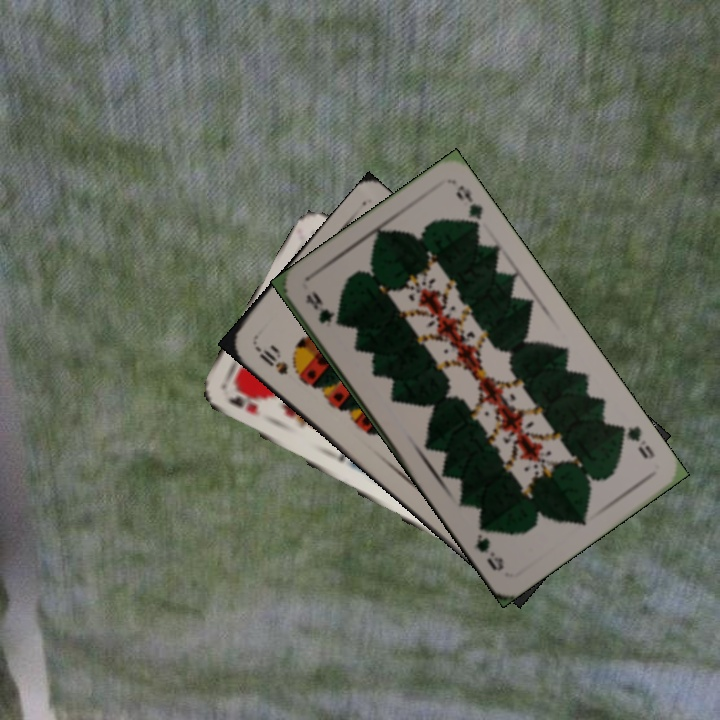G9: (612, 420, 658, 462), (301, 286, 336, 327)
HK: (223, 392, 264, 418)
S10: (250, 338, 291, 378)
